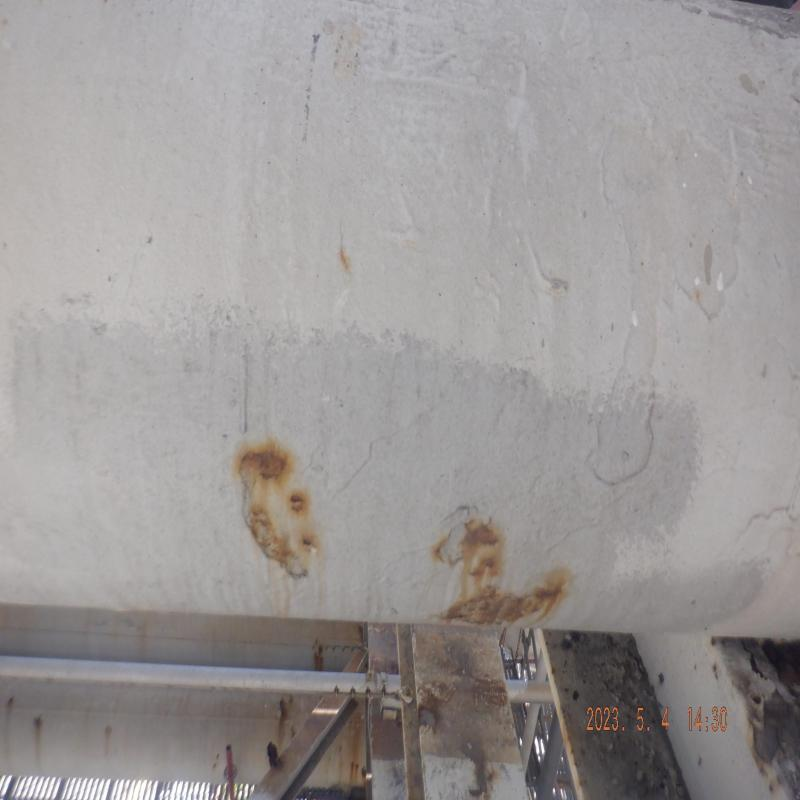corrosion: (243, 443, 307, 560), (453, 523, 509, 625)
